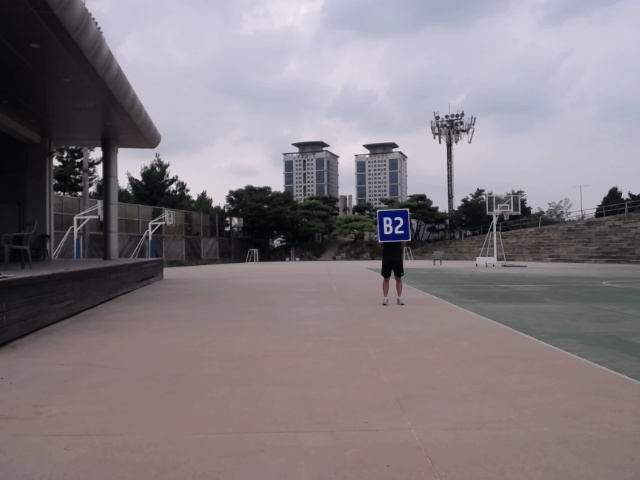delivery_b2: (375, 208, 412, 243)
